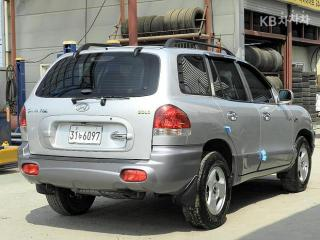0: (87, 131, 91, 141)
1: (74, 131, 79, 140)
3: (70, 130, 74, 140)
6: (83, 131, 87, 142)
7: (95, 130, 101, 141)
9: (91, 131, 96, 141)
plate: (65, 122, 105, 146)
누: (79, 132, 83, 141)
